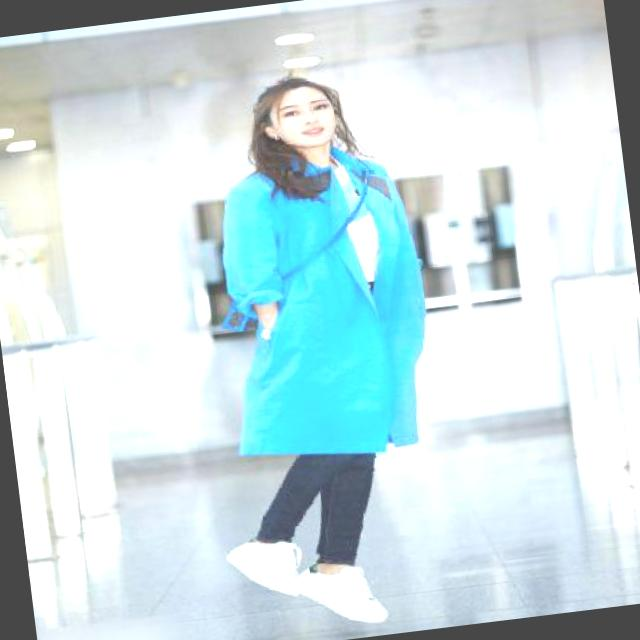Person: (160, 67, 476, 628)
